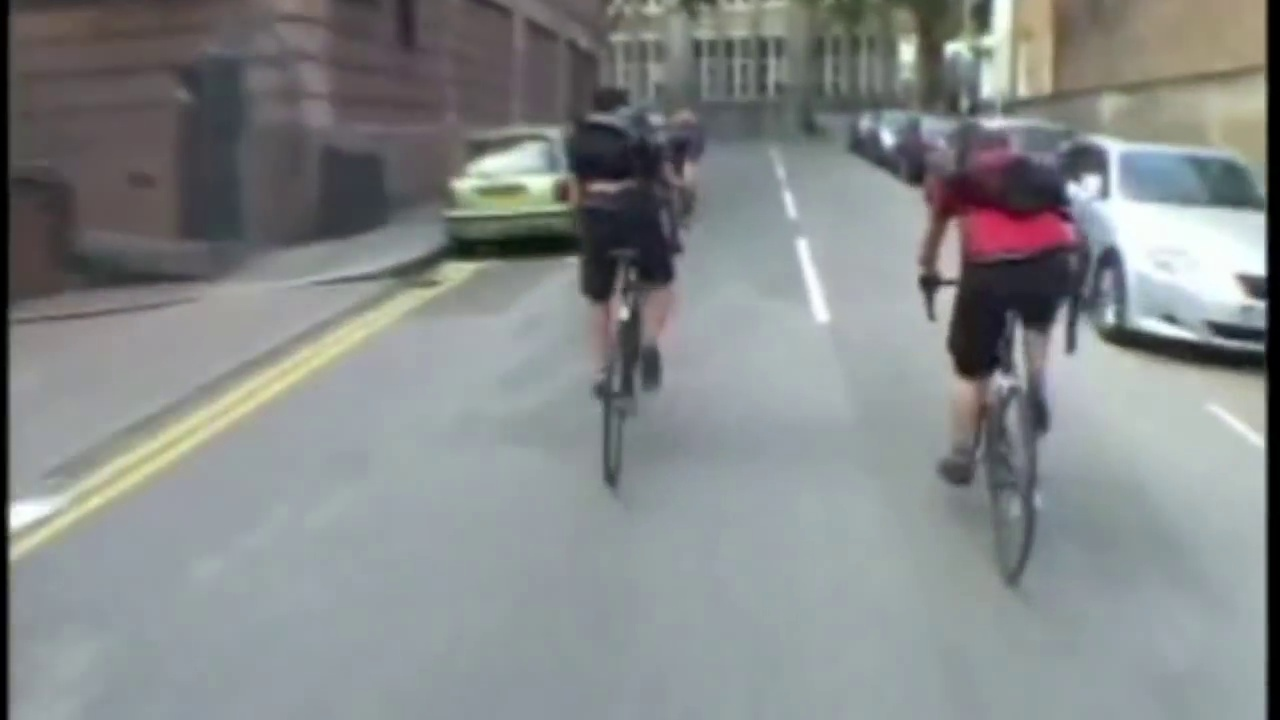cyclist_back: (913, 115, 1092, 597), (570, 69, 685, 497)
